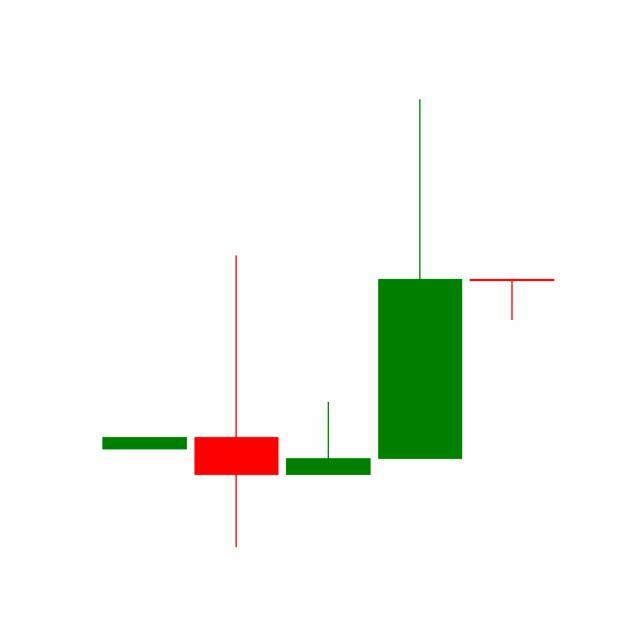Dragonfly Doji: (466, 279, 559, 322)
